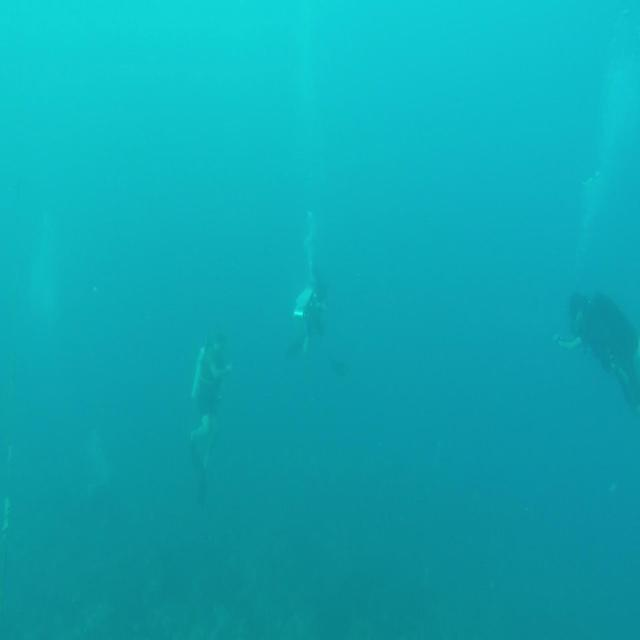human: (555, 287, 639, 411), (188, 326, 234, 502), (286, 268, 346, 377)
